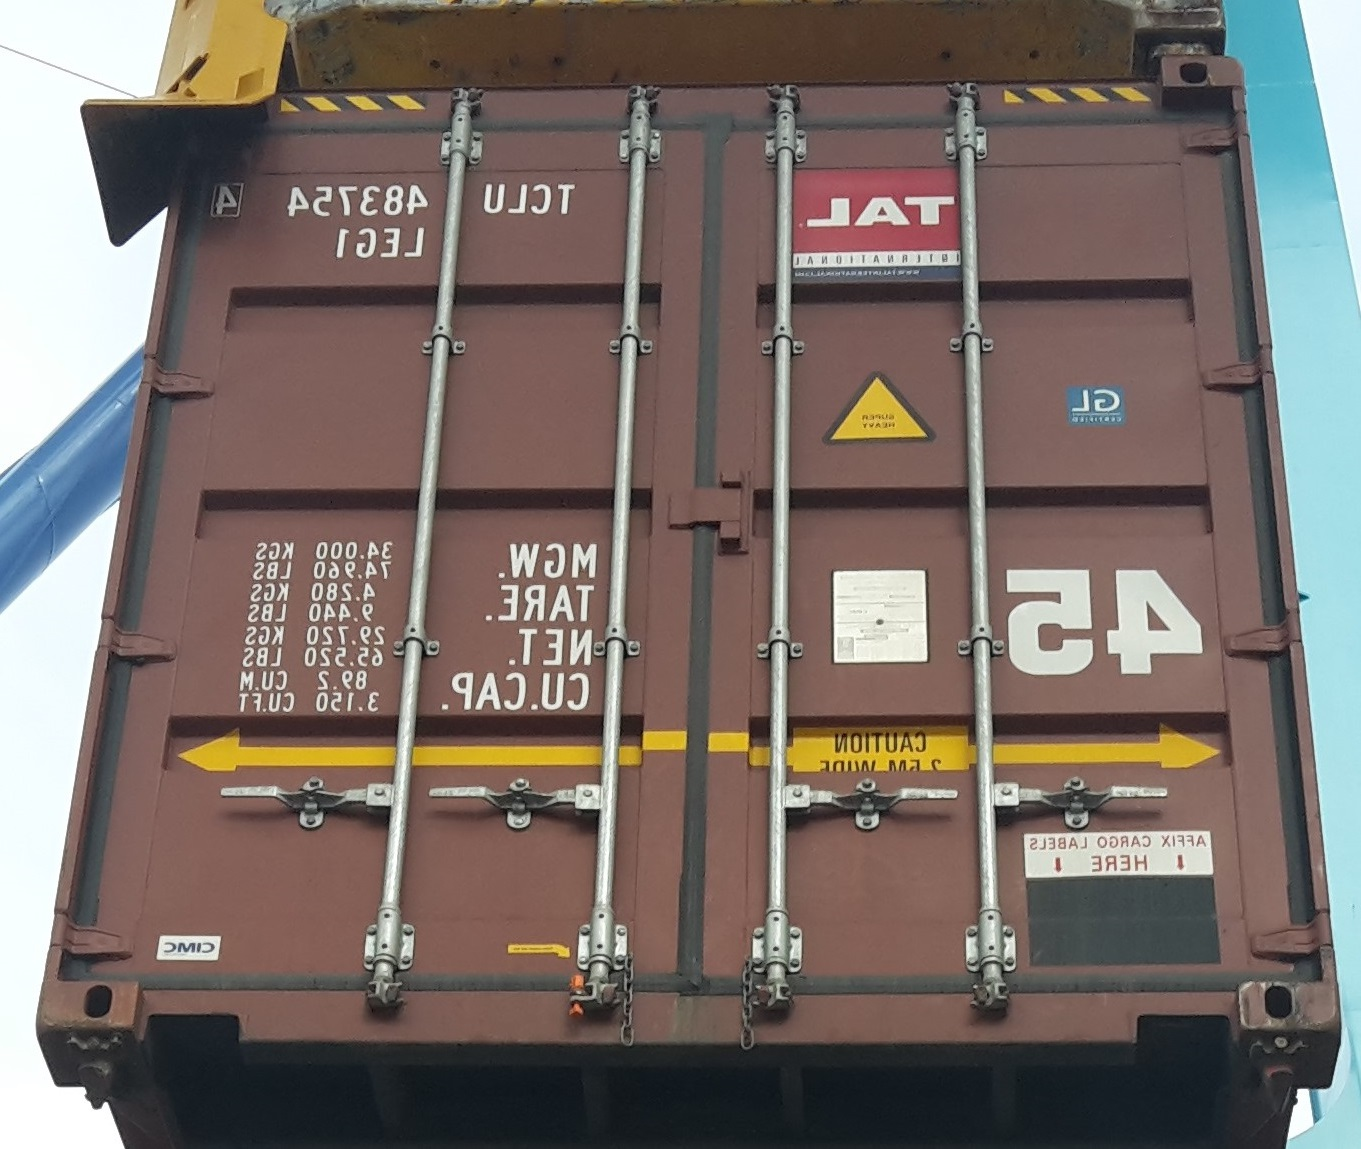container_door: (41, 55, 1321, 1038)
